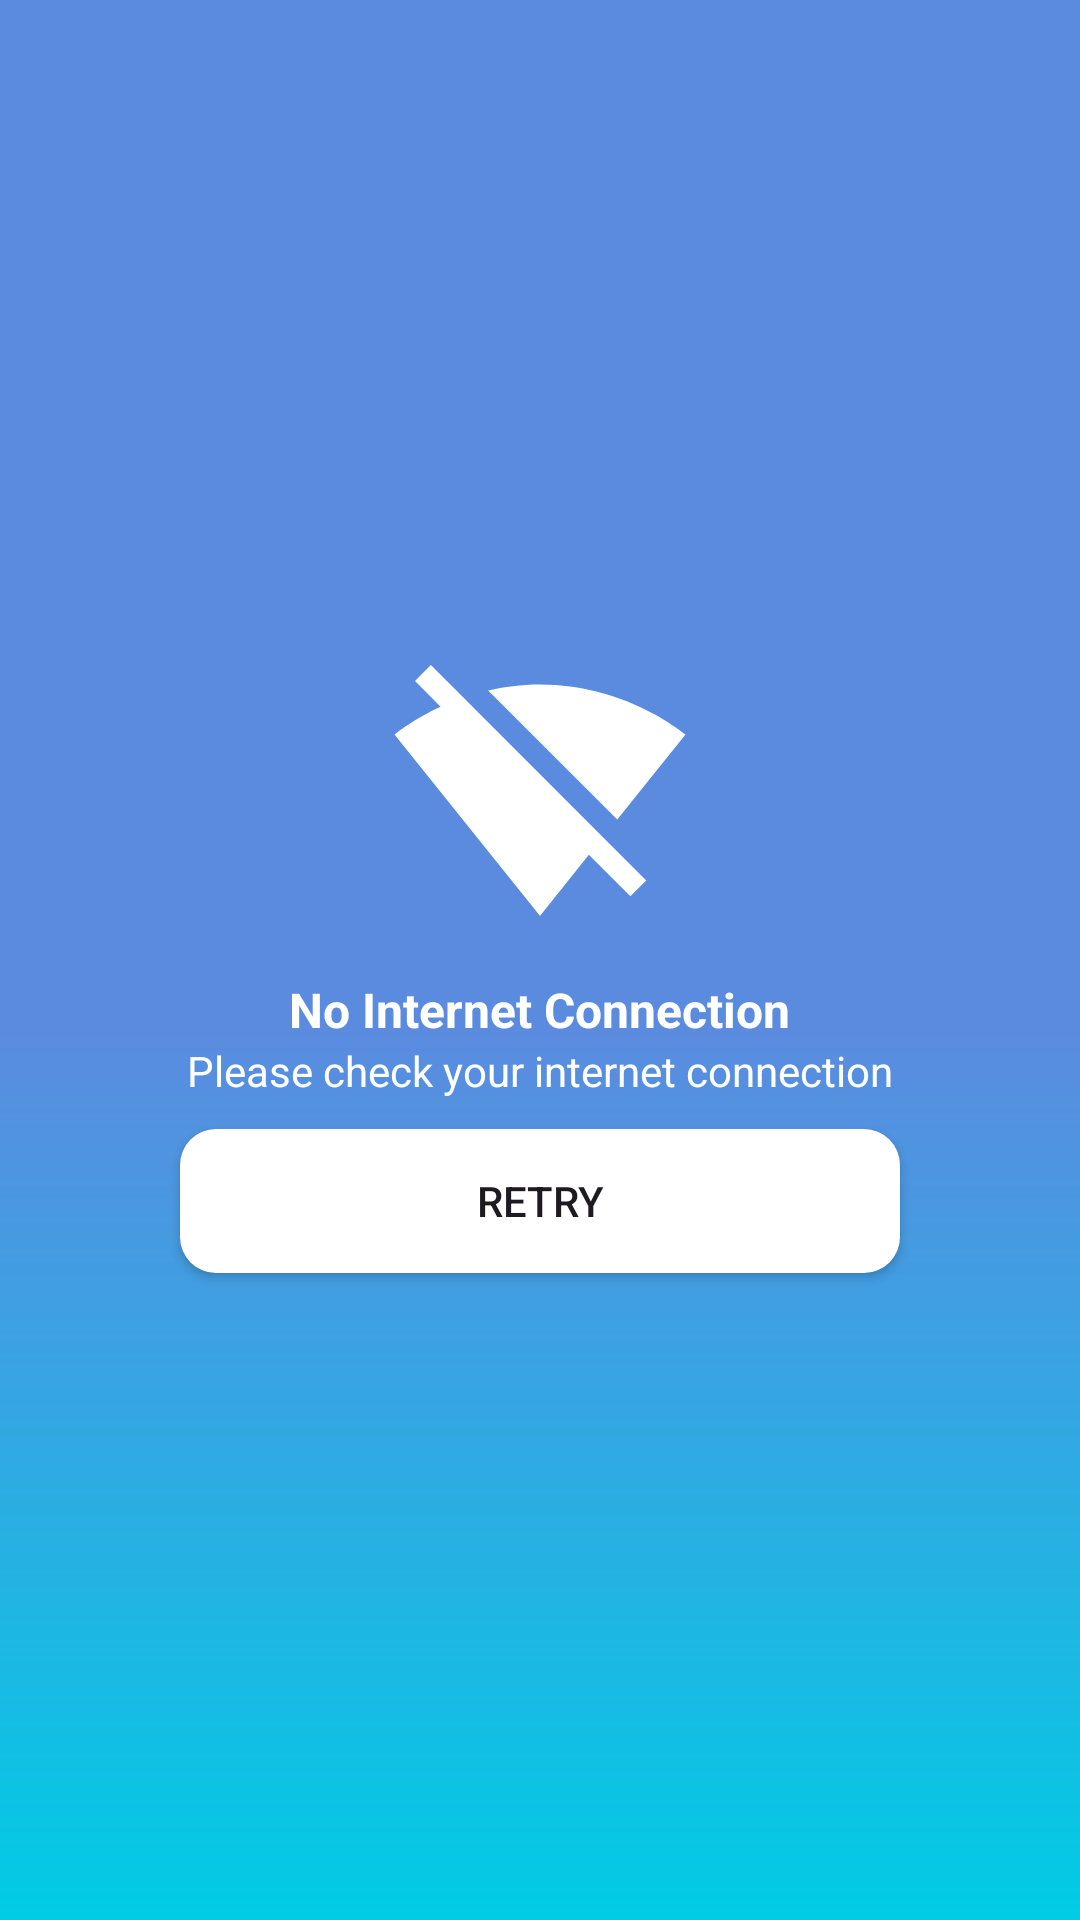

Where icons sit on this 1080 × 1920 app screen, as (x1, y1, x2, y2):
signal wifi off: (394, 665, 686, 916)
